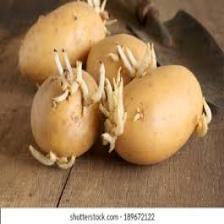Bud: (101, 77, 127, 153), (52, 52, 82, 103), (26, 142, 79, 169), (119, 47, 162, 79), (80, 65, 108, 112), (88, 0, 115, 34), (197, 99, 214, 138), (108, 41, 123, 63), (132, 106, 146, 125)
Sprouted potato: (112, 66, 209, 164), (31, 66, 107, 177), (14, 2, 113, 74), (87, 32, 162, 86)
